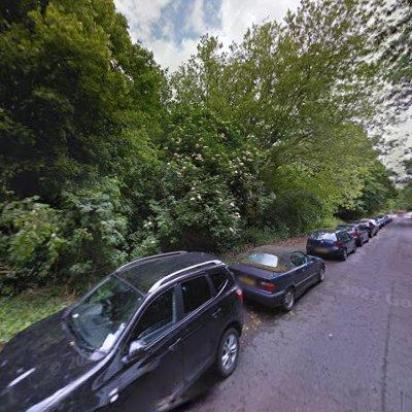stationary-car-onstreet: (0, 248, 246, 412), (225, 246, 328, 314), (304, 227, 356, 260), (334, 223, 368, 247), (360, 218, 381, 238)
